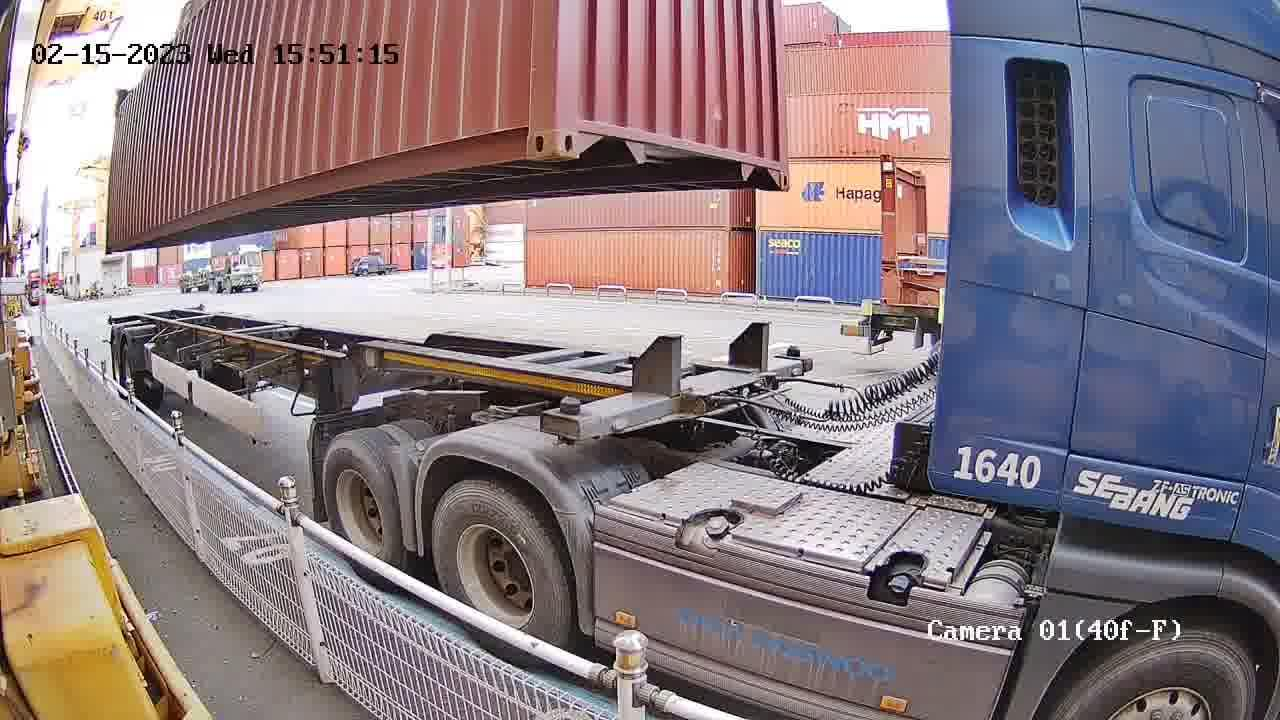Chassis: (539, 352, 814, 439)
Cone: (538, 393, 588, 446), (780, 345, 805, 361)
Hole_L: (557, 102, 613, 157)
Hole_R: (497, 103, 557, 160), (753, 137, 791, 193)
Tire: (432, 489, 570, 641), (1066, 632, 1255, 717), (322, 440, 401, 565)
